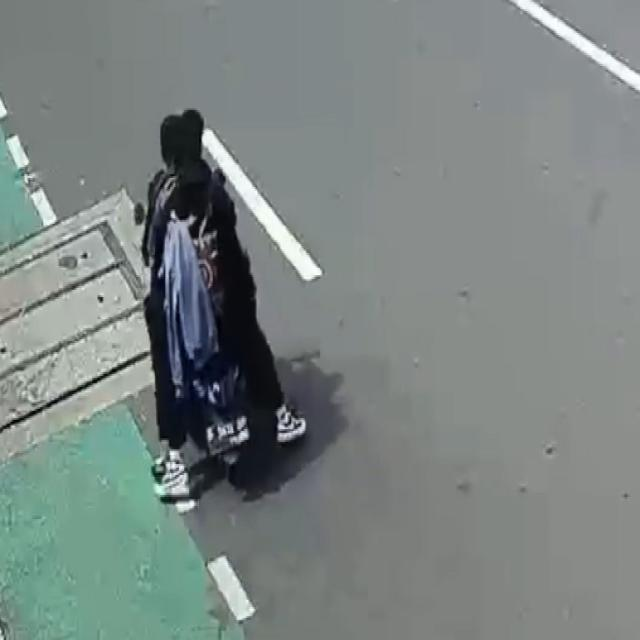motor: (131, 105, 288, 507)
spion: (129, 198, 156, 241)
